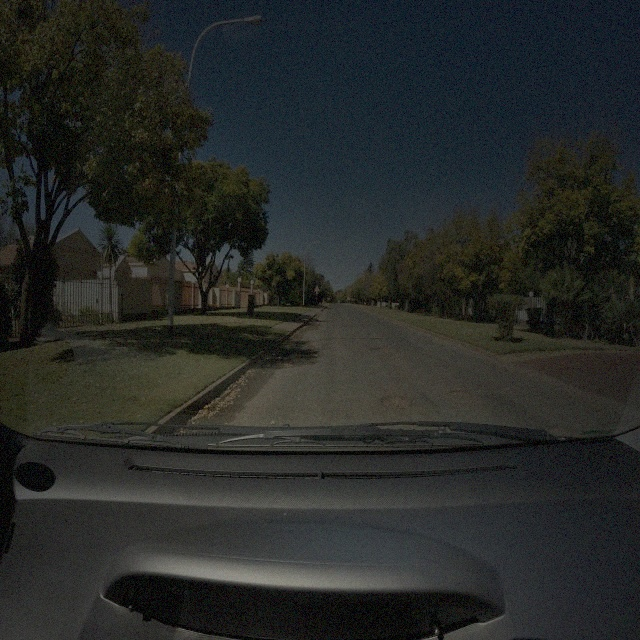pothole: (379, 394, 414, 410), (448, 388, 472, 403), (374, 346, 397, 356), (273, 360, 294, 370), (426, 341, 444, 350)
